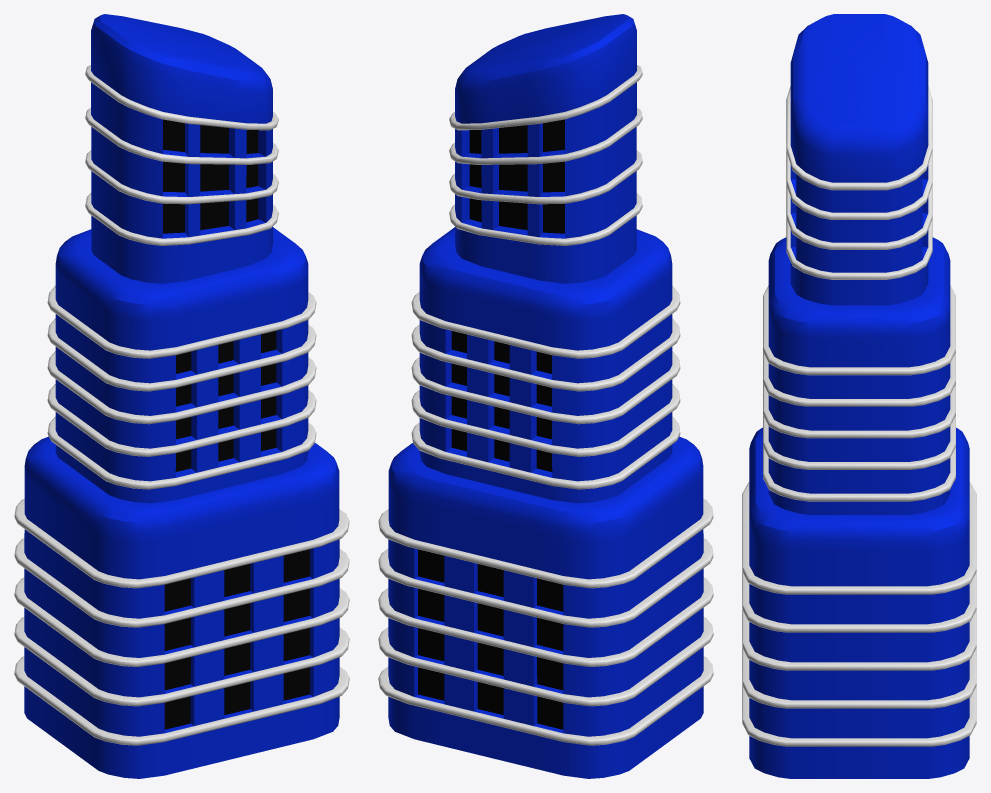
File: Rezidans.fbx
3 renders of one model, left to right at view 1: azimuth 30°, elevation 25°; view 2: azimuth 150°, elevation 25°; view 3: azimuth 270°, elevation 25°, orthographic. The views are drawn at different scales.
Parts seen in each view (by area): view 1: Cube.008; view 2: Cube.008; view 3: Cube.008.
Part boxes in pixels (x1,y1,x2,y2): Cube.008: (14,14,349,778); Cube.008: (378,14,713,778); Cube.008: (742,14,976,778).
Bounding box in the file's own units: 79.4 × 210 × 65.94.
